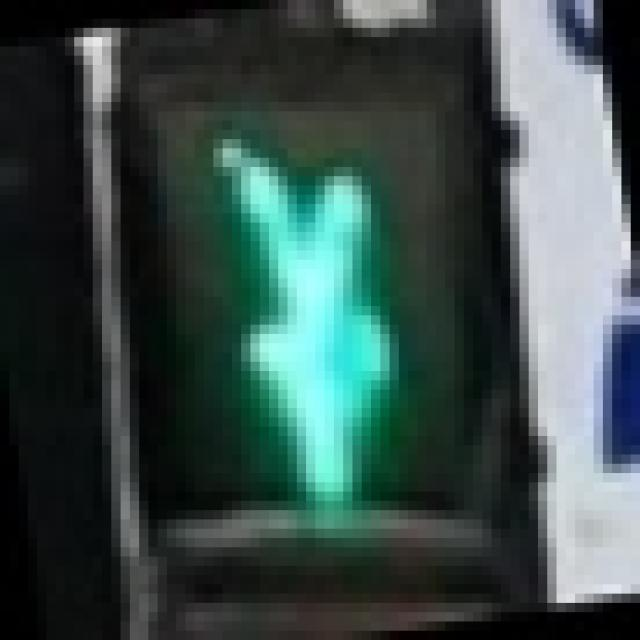green-light: (94, 75, 512, 548)
